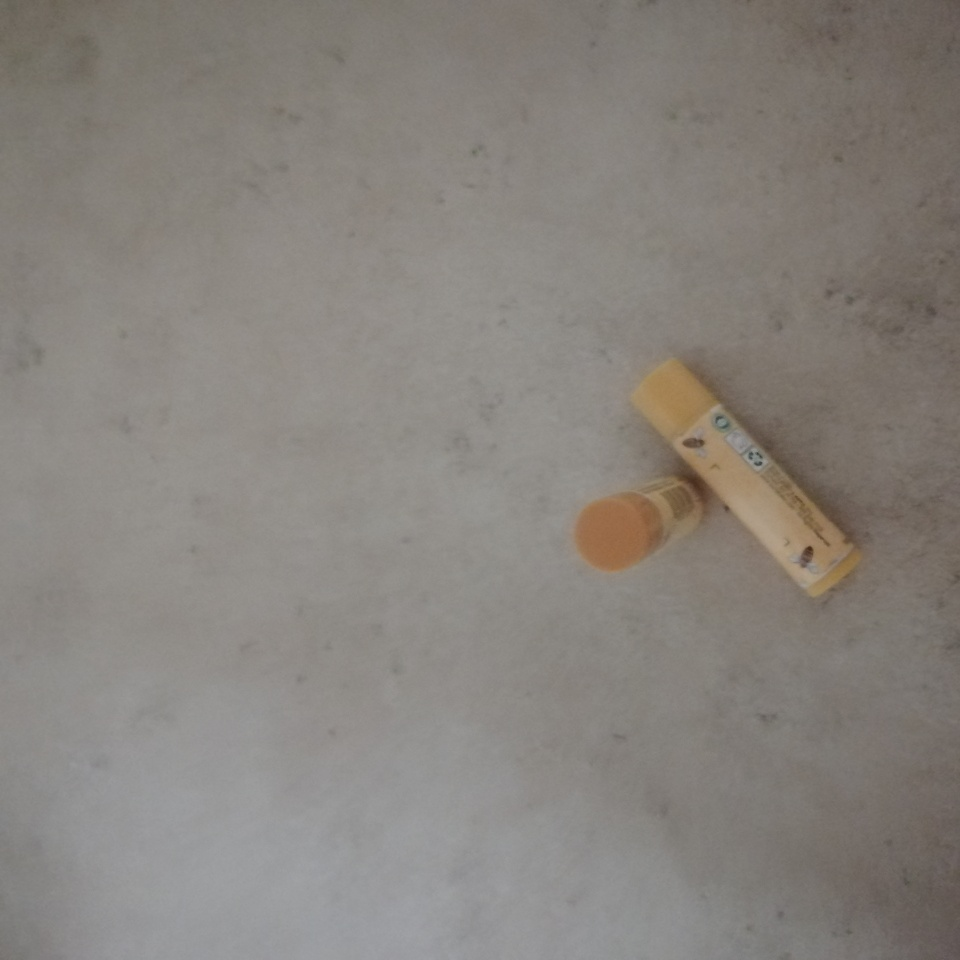chapstick: (631, 358, 862, 600), (575, 476, 705, 571)
